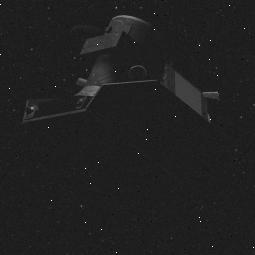cheops: (13, 16, 229, 146)
